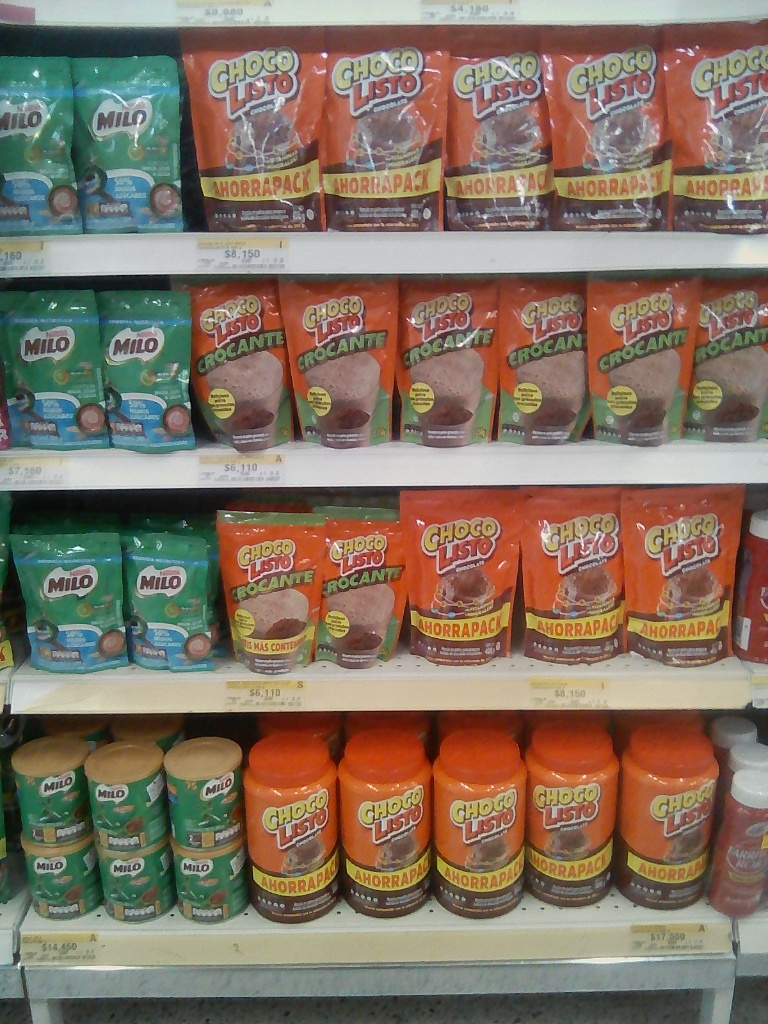COL0170102DYP25000: (185, 276, 299, 454)
COL0170103DYP40000: (178, 27, 329, 234)
COL0170103TRR00100: (241, 733, 344, 926)
COL0170203LAT40000: (10, 738, 93, 844)
COL0170205DYP20000: (2, 57, 85, 237)
